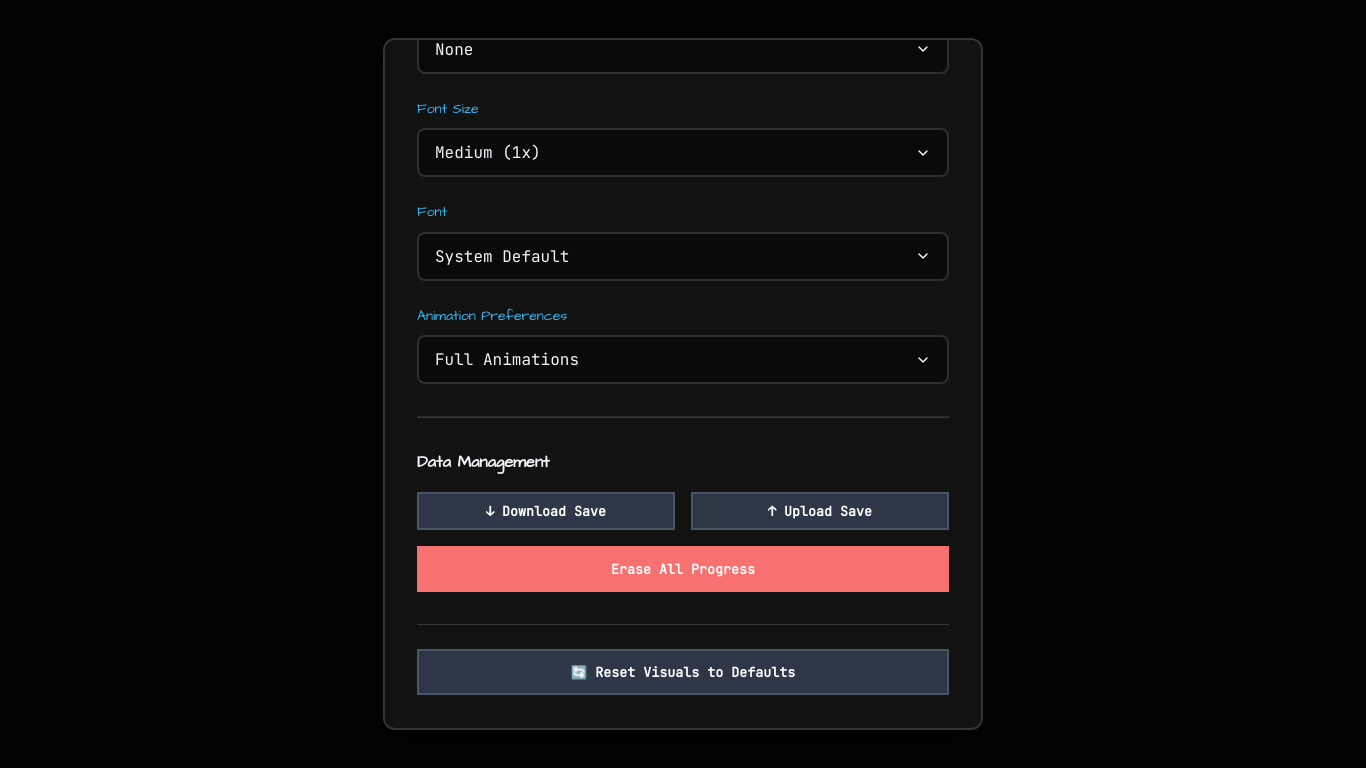
Scenario: SettingsPanel - extended interactions › hides confirm buttons when Cancel is clicked
(page scrolled)
Step 1. Click the button "🔄 Reset Visuals to Defaults" → (683, 672), box x1=417 y1=649 x2=949 y2=695
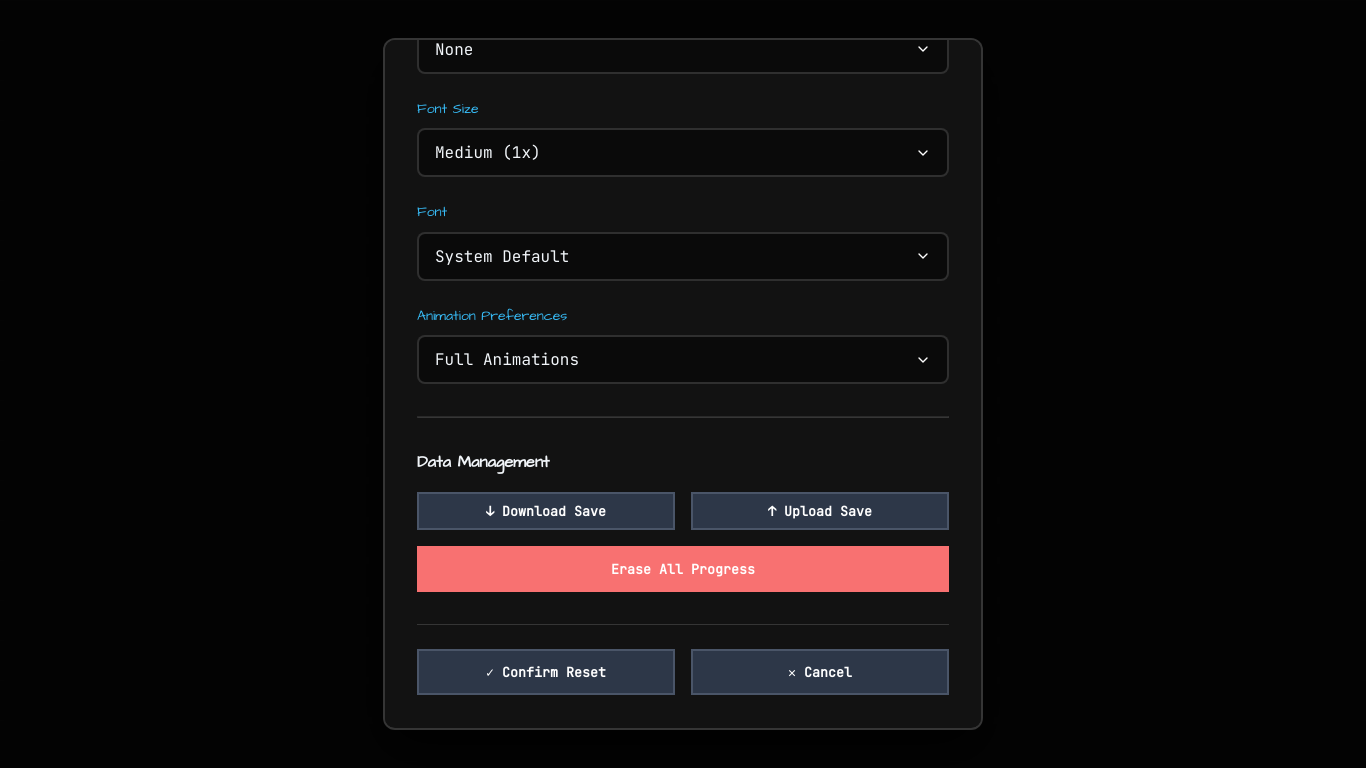
Step 2. Click the button "✕ Cancel" → (820, 672), box x1=691 y1=649 x2=949 y2=695
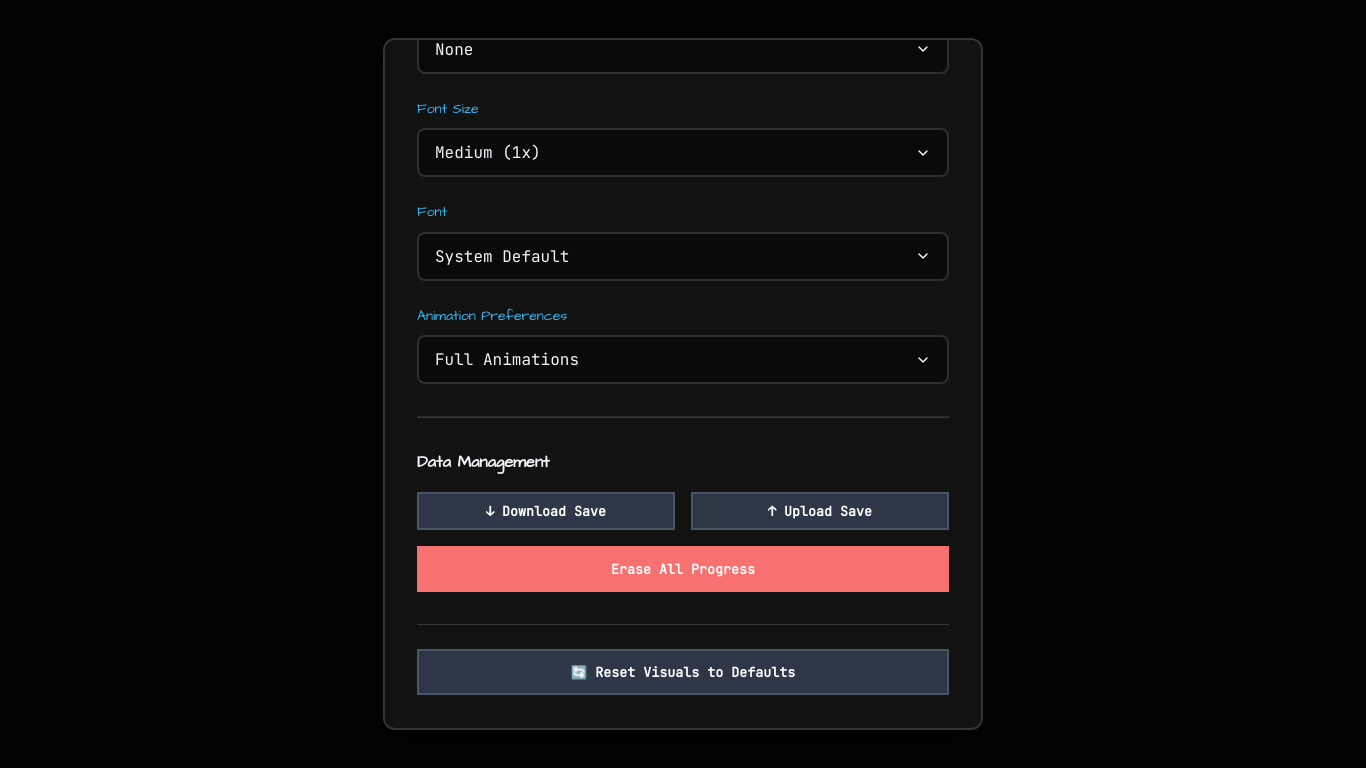
Check: the button "Confirm Reset" is gone
Check: the button "🔄 Reset Visuals to Defaults" is shown, box x1=417 y1=649 x2=949 y2=695
